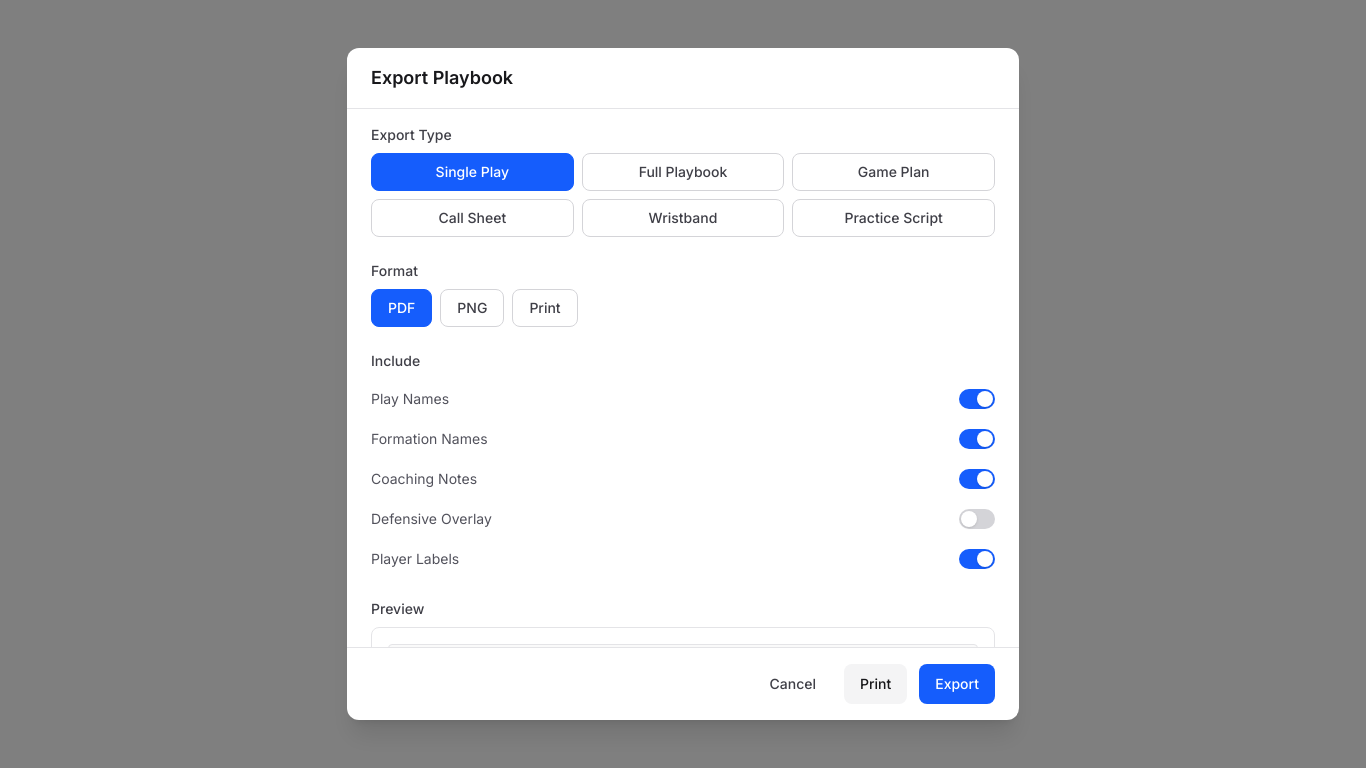
Scenario: ExportManager › shows layout options for game_plan type
Click the button with test id "export-type-game_plan": (894, 172) [792,153,995,191]
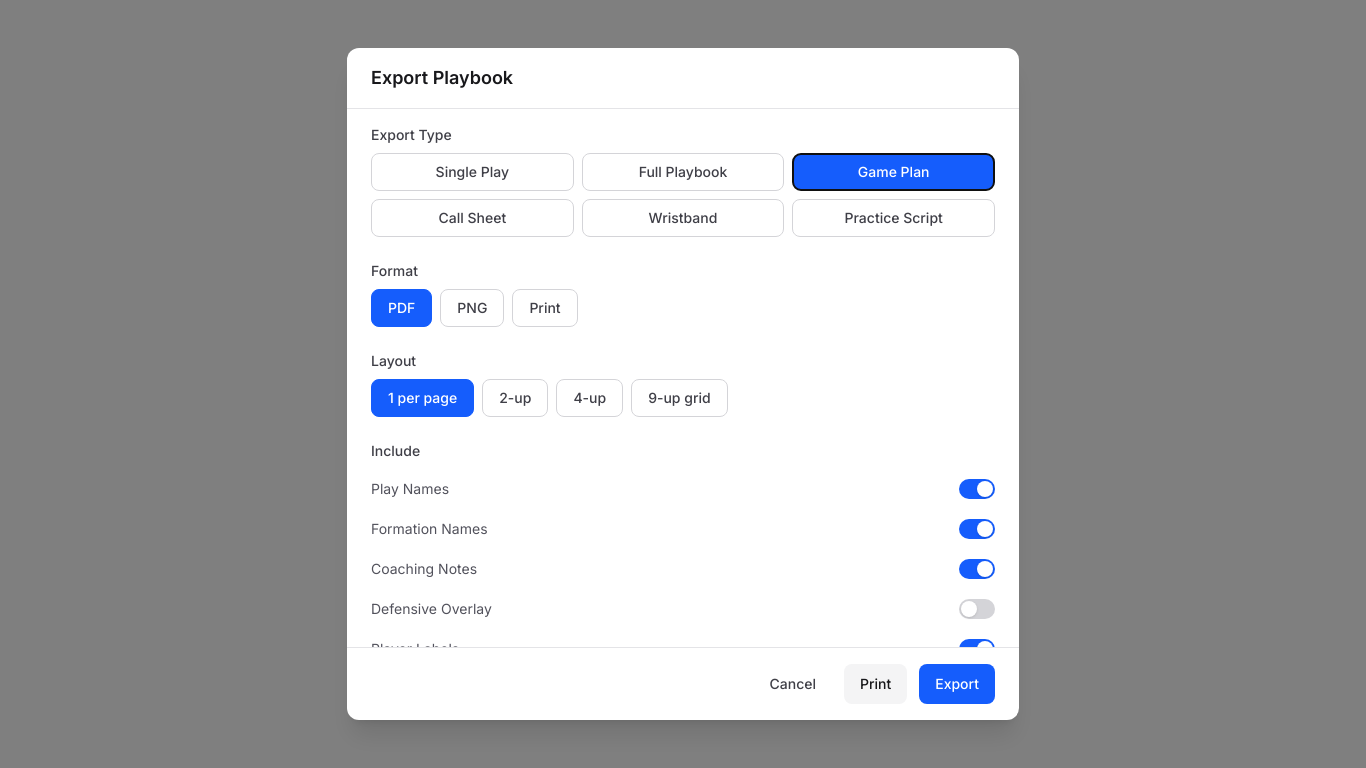
Expected: the element with test id "layout-section" is shown, [371,352,728,417]
